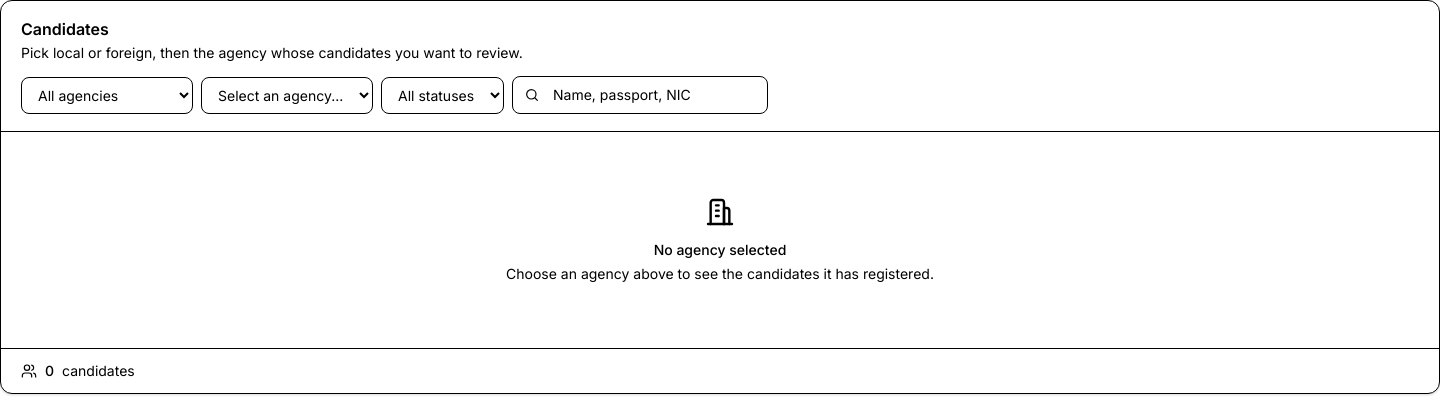
Test case: candidates for a cross-agency reader › loads one agency once it is chosen
The width and height of the screenshot is (1440, 413).
Expected: the text "No agency selected" is shown, [654,241,786,258]
Select "BlueWave Media" in the dropdown named "Agency". click: (287, 95)
box: [201,76,373,114]
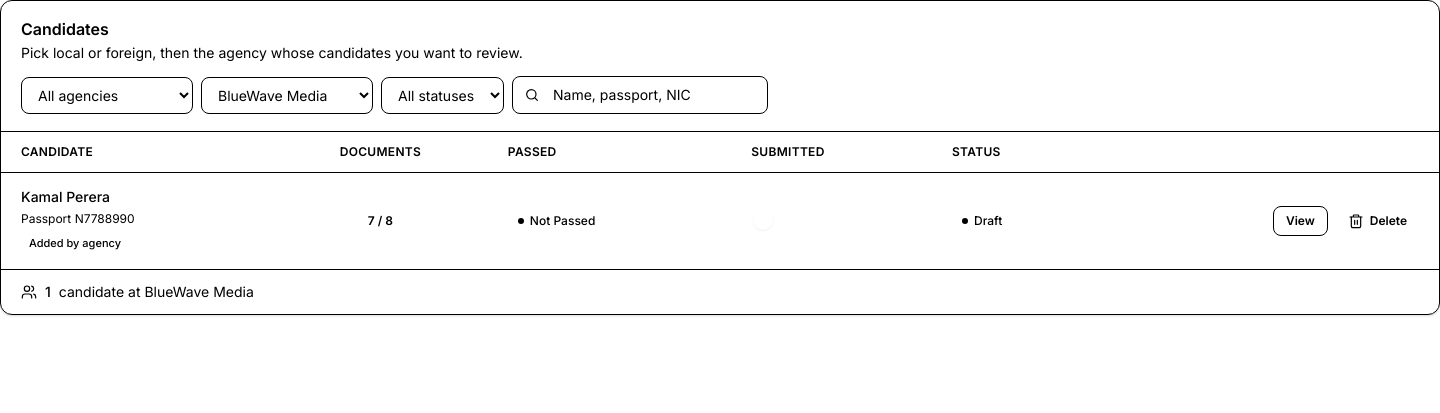
Expected: the text "Kamal Perera" is shown, [21,188,110,205]
Expected: the text "Not passed" is shown, [518,213,595,228]
